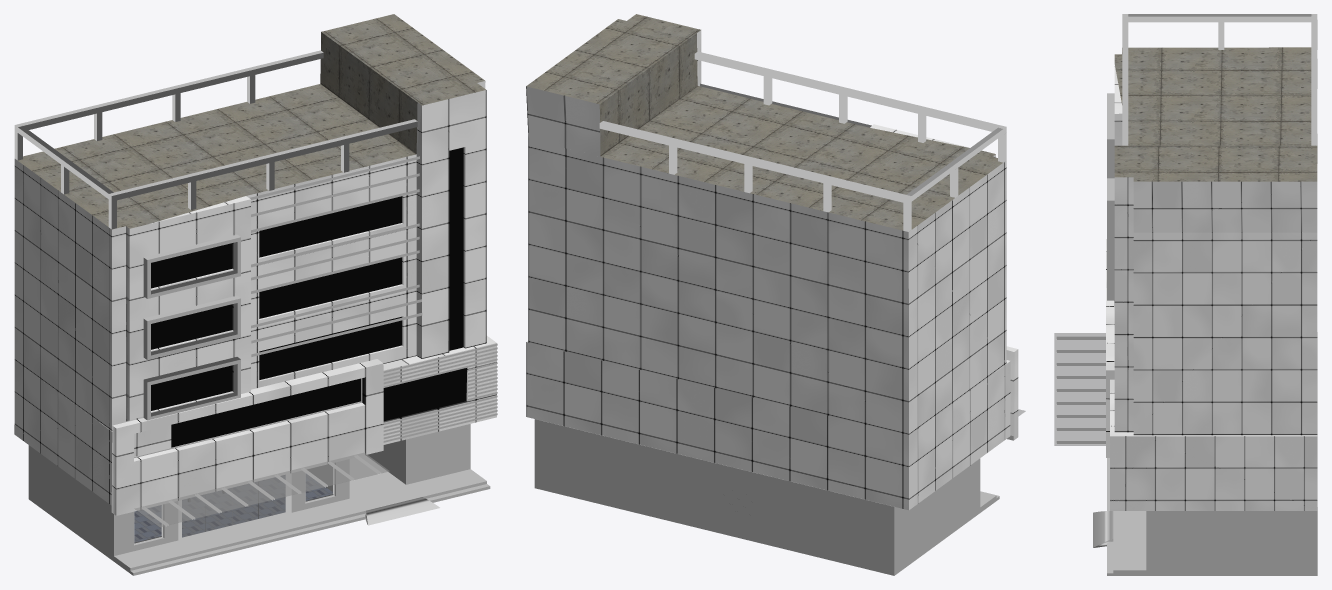
Rendered from building1_lod2.FBX.
3 views of the same model, side by side, from view 1: azimuth 30°, elevation 25°; view 2: azimuth 150°, elevation 25°; view 3: azimuth 270°, elevation 25° (orthographic).
Visible parts, largest first — view 1: office_exterior002, office_top002, glasses006, office_details002, office_limestone002, office_sreps002, glass003, office_floor002, door010, door012, door011, door009; view 2: office_exterior002, office_top002, office_limestone002, office_details002; view 3: office_exterior002, office_top002, office_limestone002, office_details002, glass003, office_sreps002.
Boxes of the visible parts, left/top/right/bottom form: office_exterior002: left=14, top=81, right=496, bottom=515; office_top002: left=18, top=14, right=485, bottom=229; glasses006: left=151, top=147, right=467, bottom=447; office_details002: left=14, top=50, right=497, bottom=544; office_limestone002: left=28, top=424, right=470, bottom=561; office_sreps002: left=114, top=469, right=490, bottom=575; glass003: left=134, top=452, right=389, bottom=542; office_floor002: left=134, top=474, right=332, bottom=542; door010: left=205, top=488, right=232, bottom=531; door012: left=259, top=475, right=285, bottom=518; door011: left=233, top=482, right=258, bottom=524; door009: left=182, top=495, right=205, bottom=537; office_exterior002: left=526, top=30, right=1018, bottom=510; office_top002: left=526, top=14, right=1002, bottom=230; office_limestone002: left=534, top=419, right=980, bottom=575; office_details002: left=599, top=51, right=1006, bottom=231; office_exterior002: left=1106, top=65, right=1317, bottom=510; office_top002: left=1114, top=47, right=1317, bottom=181; office_limestone002: left=1146, top=332, right=1317, bottom=575; office_details002: left=1057, top=14, right=1317, bottom=547; glass003: left=1054, top=333, right=1105, bottom=445; office_sreps002: left=1107, top=458, right=1146, bottom=575.
Size of the model in its own units: 2249 by 2224 by 1330.
